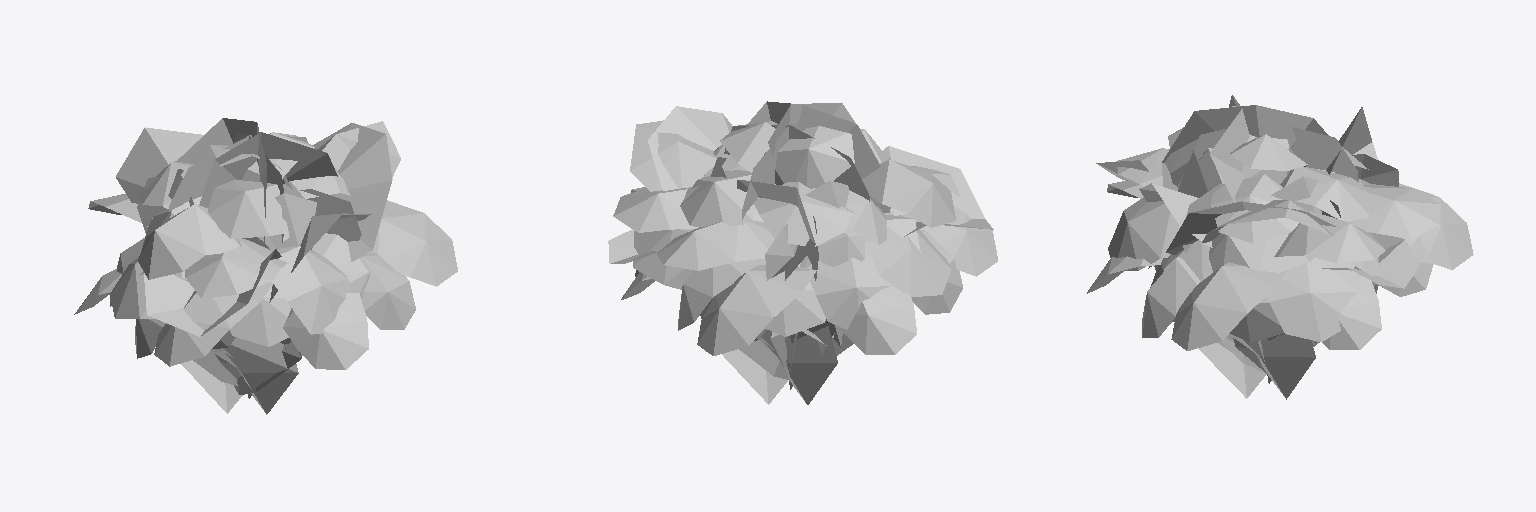
Rendered from bush05_lod2.obj.
The picture shows the model from 3 angles: view 1: azimuth 30°, elevation 25°; view 2: azimuth 150°, elevation 25°; view 3: azimuth 270°, elevation 25°; orthographic projection.
Parts seen in each view (by area): view 1: Bush05_LOD2_Mesh.010; view 2: Bush05_LOD2_Mesh.010; view 3: Bush05_LOD2_Mesh.010.
Part boxes in pixels (left/top/right/bottom): Bush05_LOD2_Mesh.010: left=74, top=118, right=457, bottom=414; Bush05_LOD2_Mesh.010: left=608, top=101, right=997, bottom=404; Bush05_LOD2_Mesh.010: left=1087, top=95, right=1473, bottom=399.
Size of the model in its own units: 4.58 by 3.81 by 4.59.